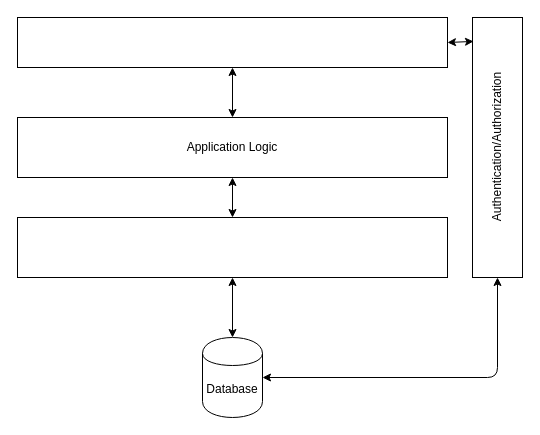
Image size: 540x435. Some labels were removed from this diagram. The box of each missing label's shape, as (x1, y1, x2, y2) in pixels:
Data Access: (16, 216, 448, 278)
Presentation: (16, 16, 448, 68)
